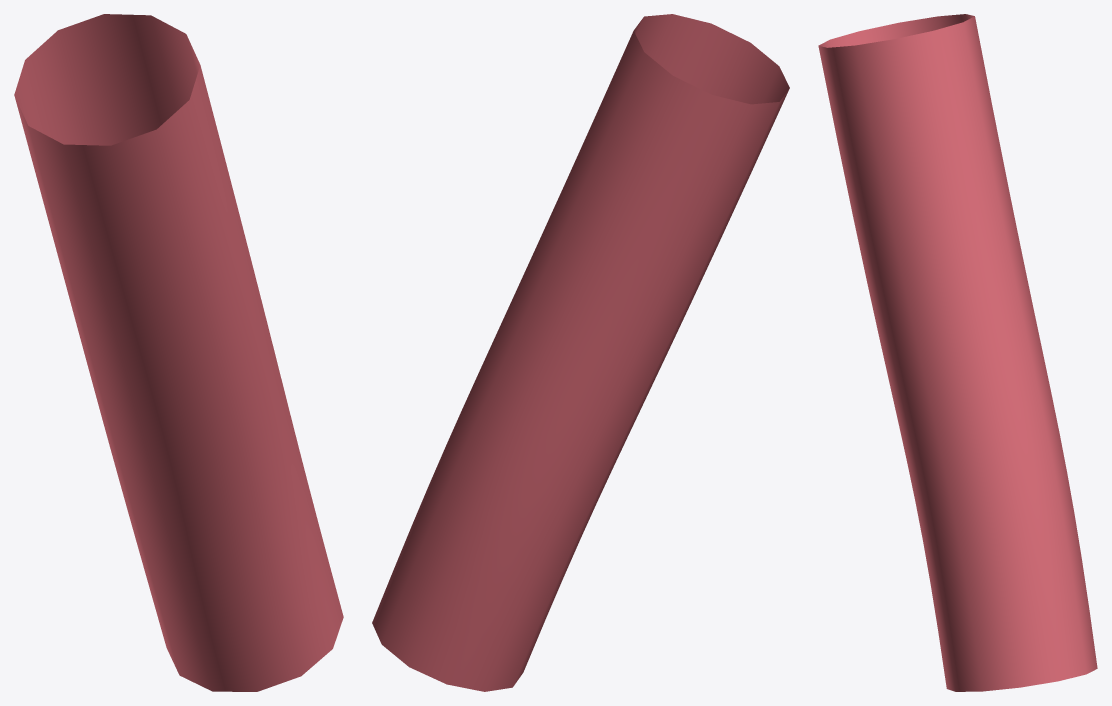
3 renders of one model, left to right at view 1: azimuth 30°, elevation 25°; view 2: azimuth 150°, elevation 25°; view 3: azimuth 270°, elevation 25°, orthographic. The views are drawn at different scales.
Parts seen in each view (by area): view 1: ZA_d770fa4436b3253a; view 2: ZA_d770fa4436b3253a; view 3: ZA_d770fa4436b3253a.
Part boxes in pixels (x1,y1,x2,y2): ZA_d770fa4436b3253a: (14, 14, 343, 691); ZA_d770fa4436b3253a: (372, 14, 789, 691); ZA_d770fa4436b3253a: (818, 14, 1097, 691).
Bounding box in the file's own units: 0.00501 × 0.00924 × 0.00385.
